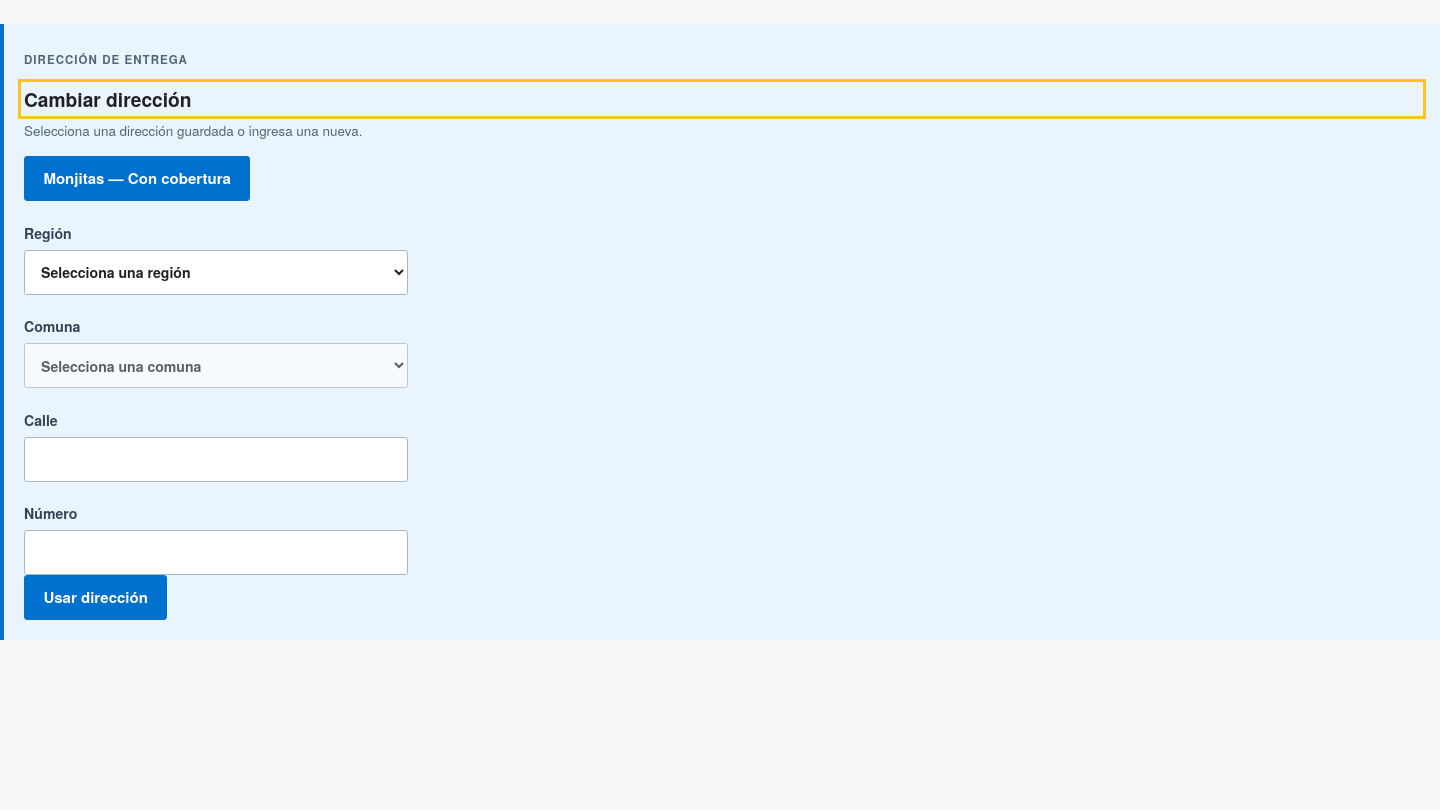
componentes de dirección › mantiene comuna deshabilitada, la filtra por región y muestra errores locales
Check: the dropdown labelled "Comuna" is disabled, box [24,343,408,388]
Select "Región Metropolitana" in the dropdown labelled "Región" at [216, 272], box [24,250,408,295]
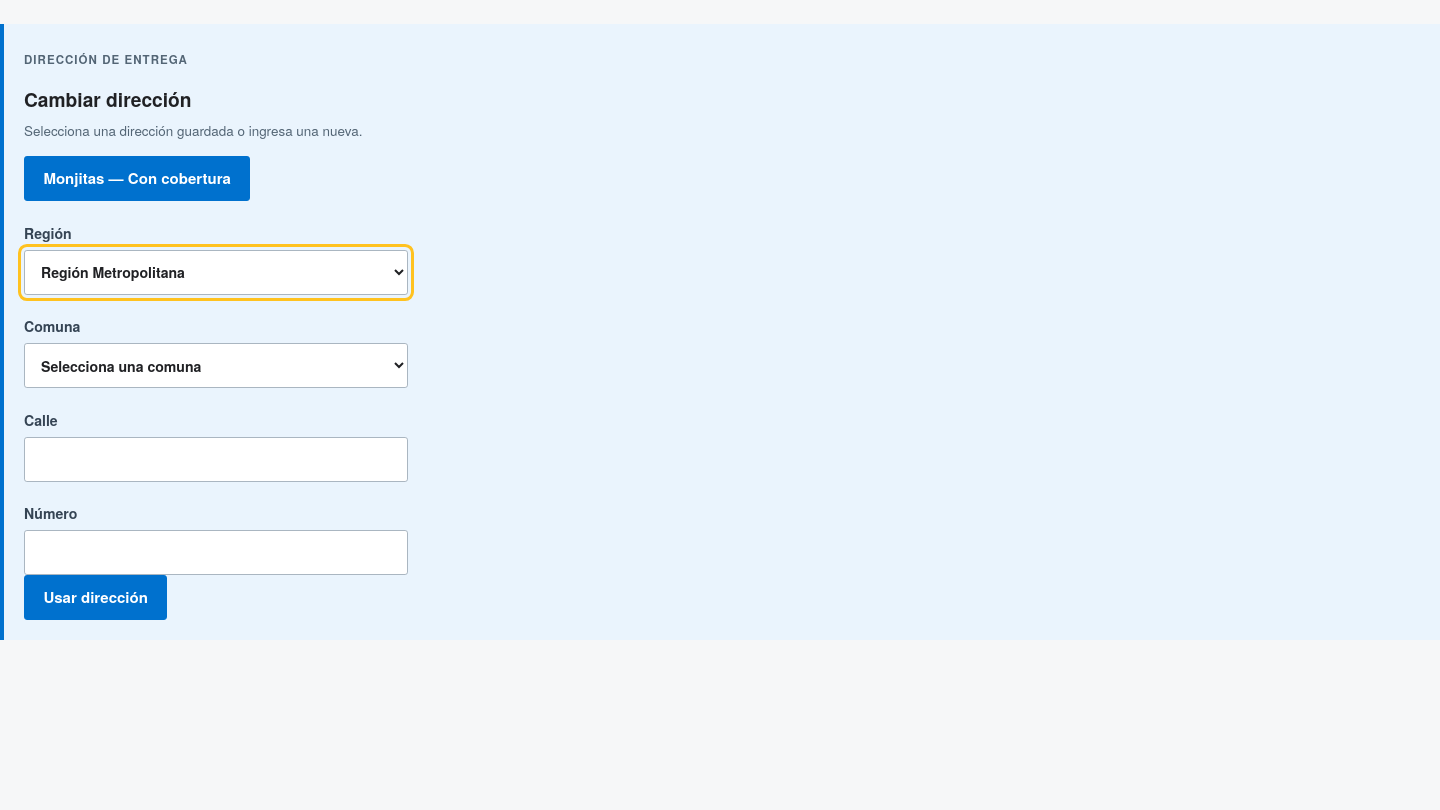
Check: the dropdown labelled "Comuna" is enabled, box [24,343,408,388]
Click the button "Usar dirección" at [96, 598], box [24,575,167,620]
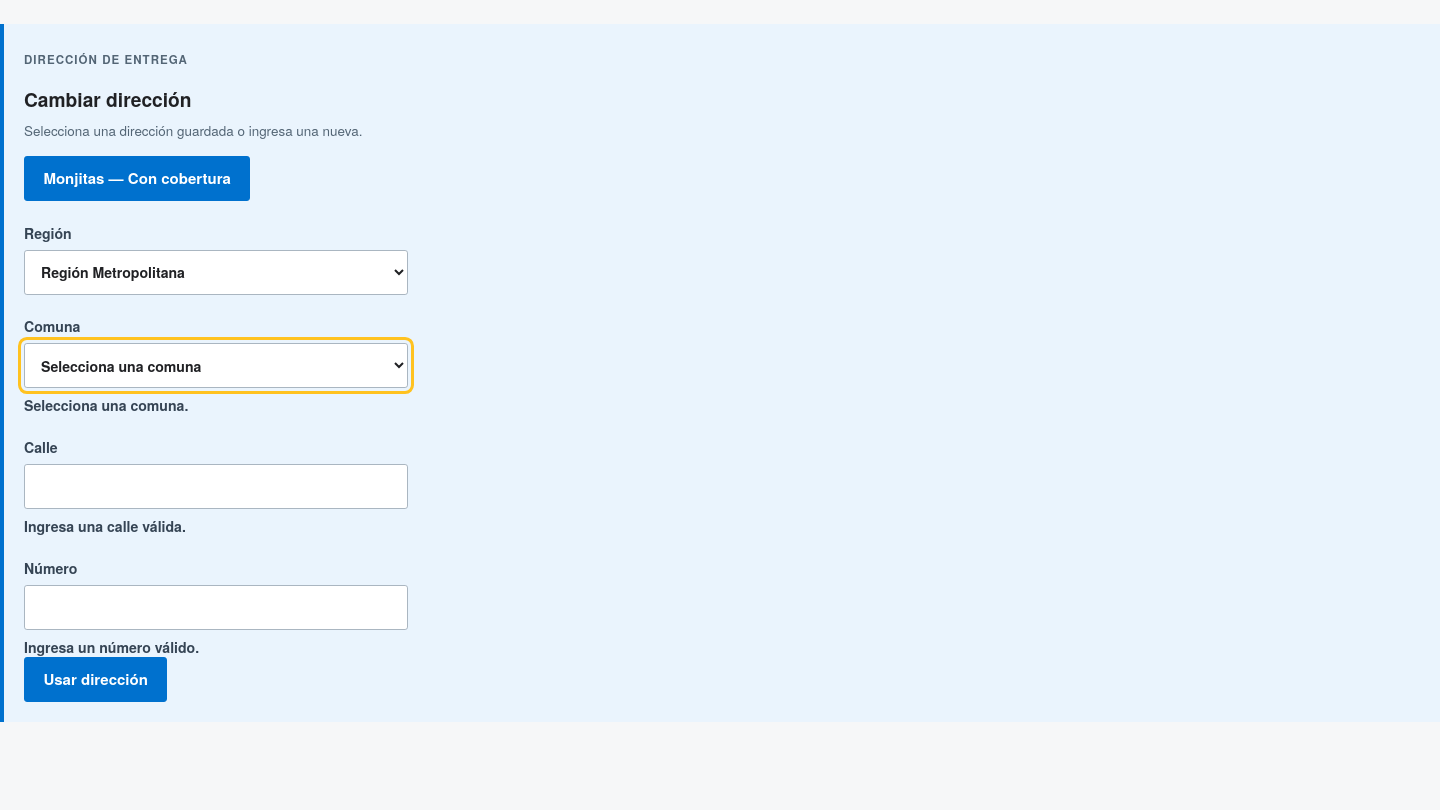
Check: the number of messages is 3, box [24,395,188,415]; [24,516,186,536]; [24,637,199,657]
